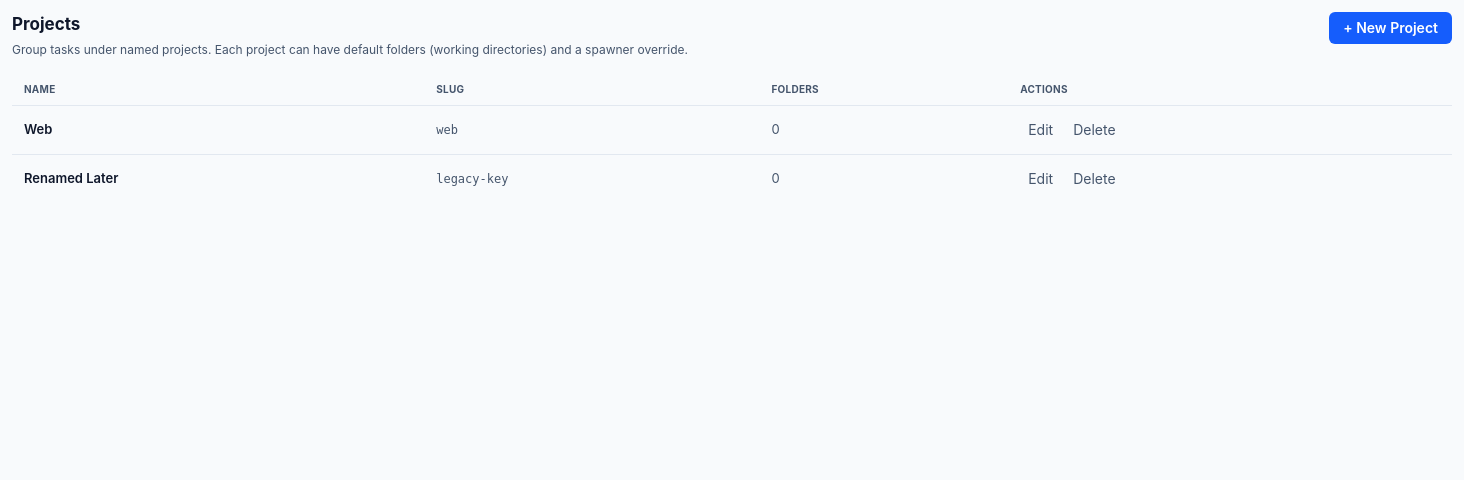
Test: projectSettings slug › keeps following the name while the slug has not been touched
Click the button with test id "proj-new" at {"x": 1391, "y": 28}, box [1329,12,1452,44]
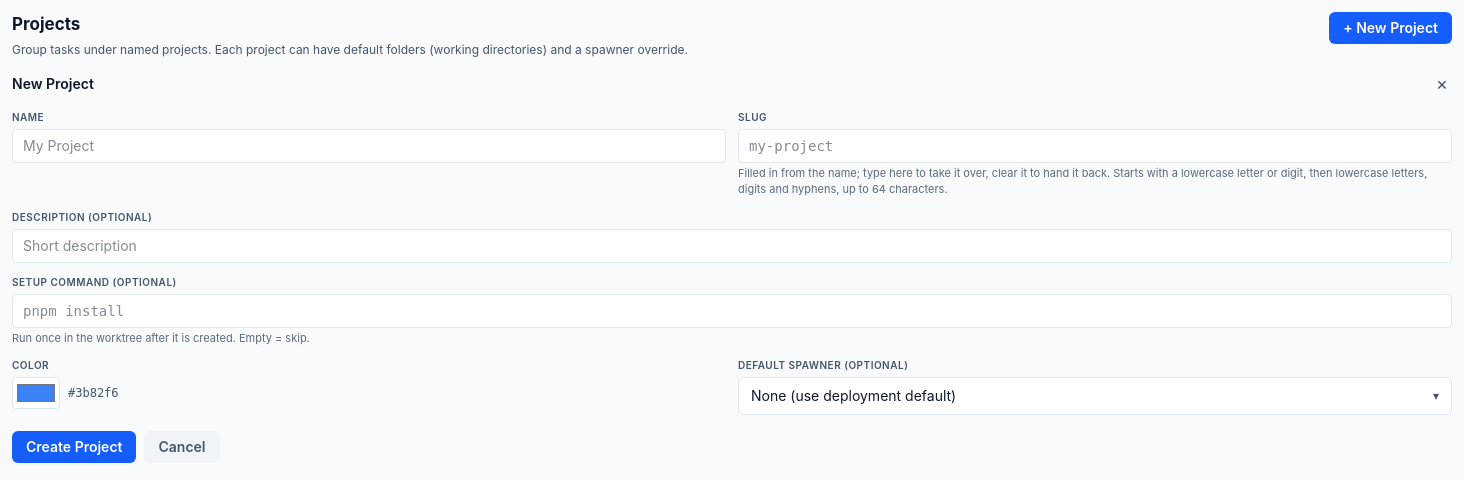
Type "First Name" into the field with test id "proj-name" at {"x": 369, "y": 146}, box [12,128,726,162]
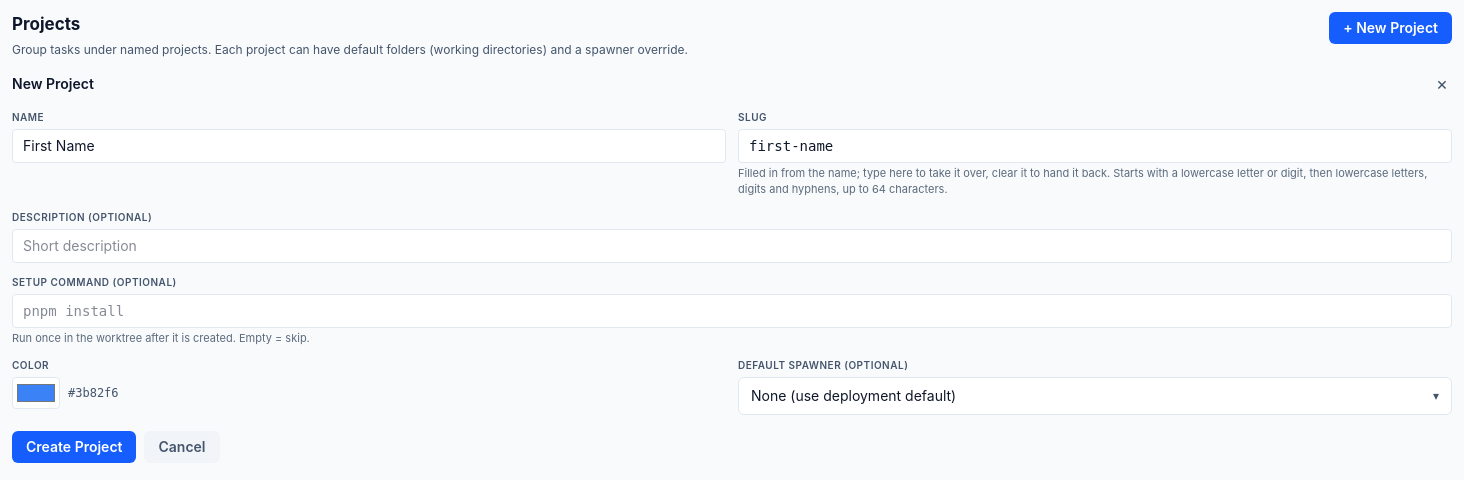
Replace the text in the field with test id "proj-name" with "Second Name" at {"x": 369, "y": 146}, box [12,128,726,162]
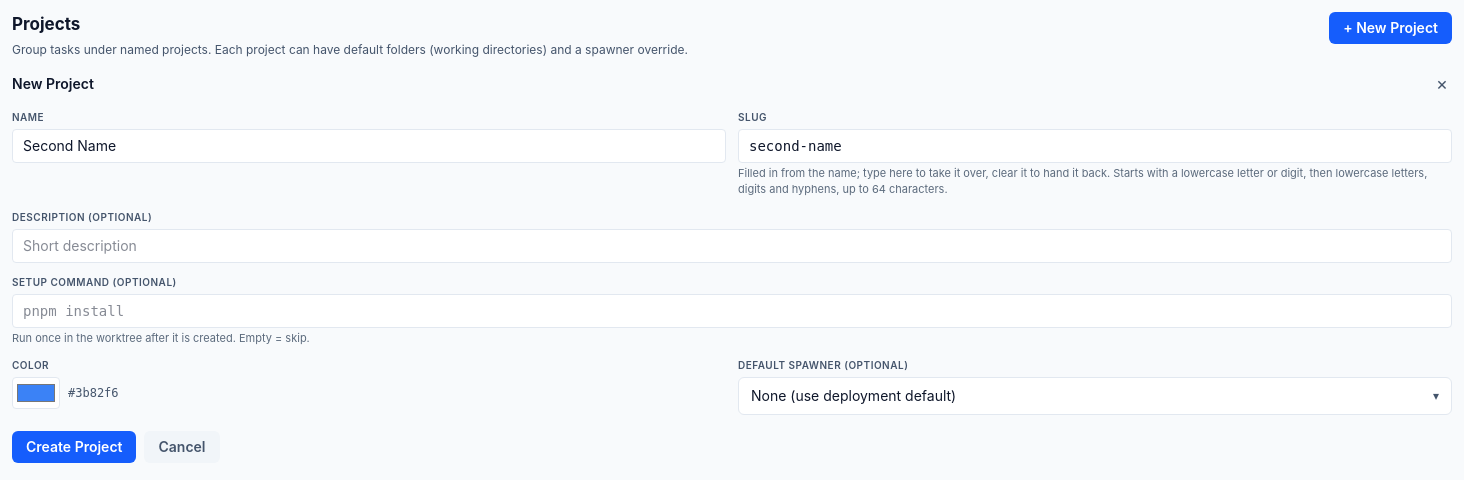
Check: the field with test id "proj-slug" holds "second-name", box [738,128,1452,162]
